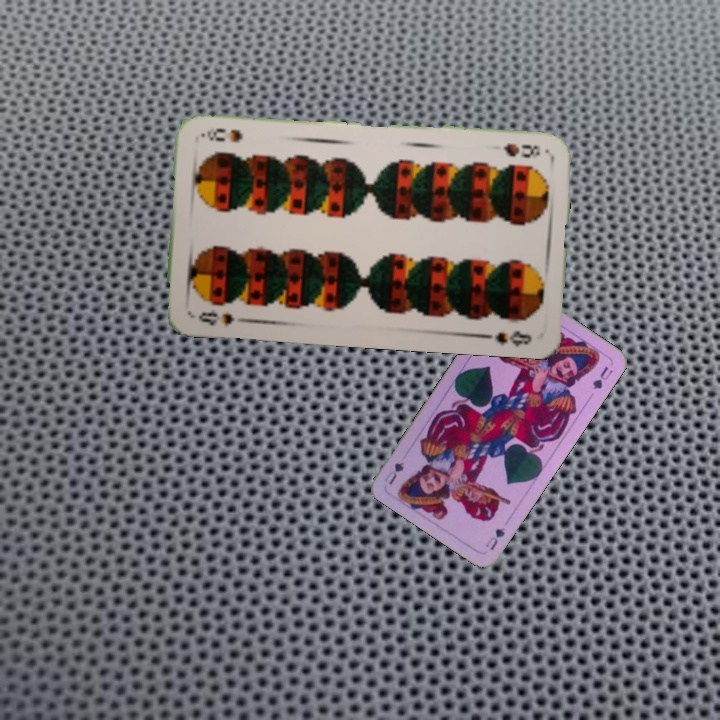GU: (481, 523, 507, 553)
S8: (195, 306, 237, 330), (499, 139, 543, 161)
